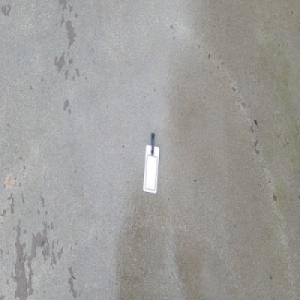LuggageTag: (142, 131, 160, 194)
